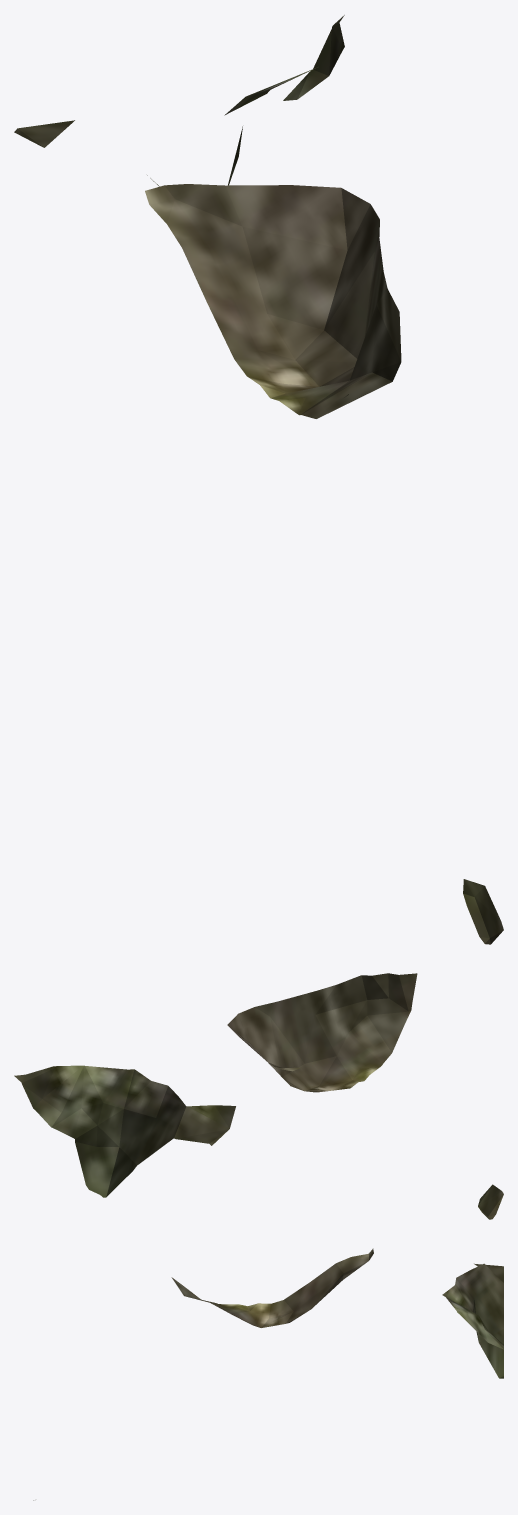
3 views of the same model, one above another, from view 1: azimuth 30°, elevation 25°; view 2: azimuth 150°, elevation 25°; view 3: azimuth 270°, elevation 25° (orthographic). The views are drawn at different scales.
Bounding box in the file's own units: 0.877 × 1.28 × 2.25.
1 material, 1 textured.
